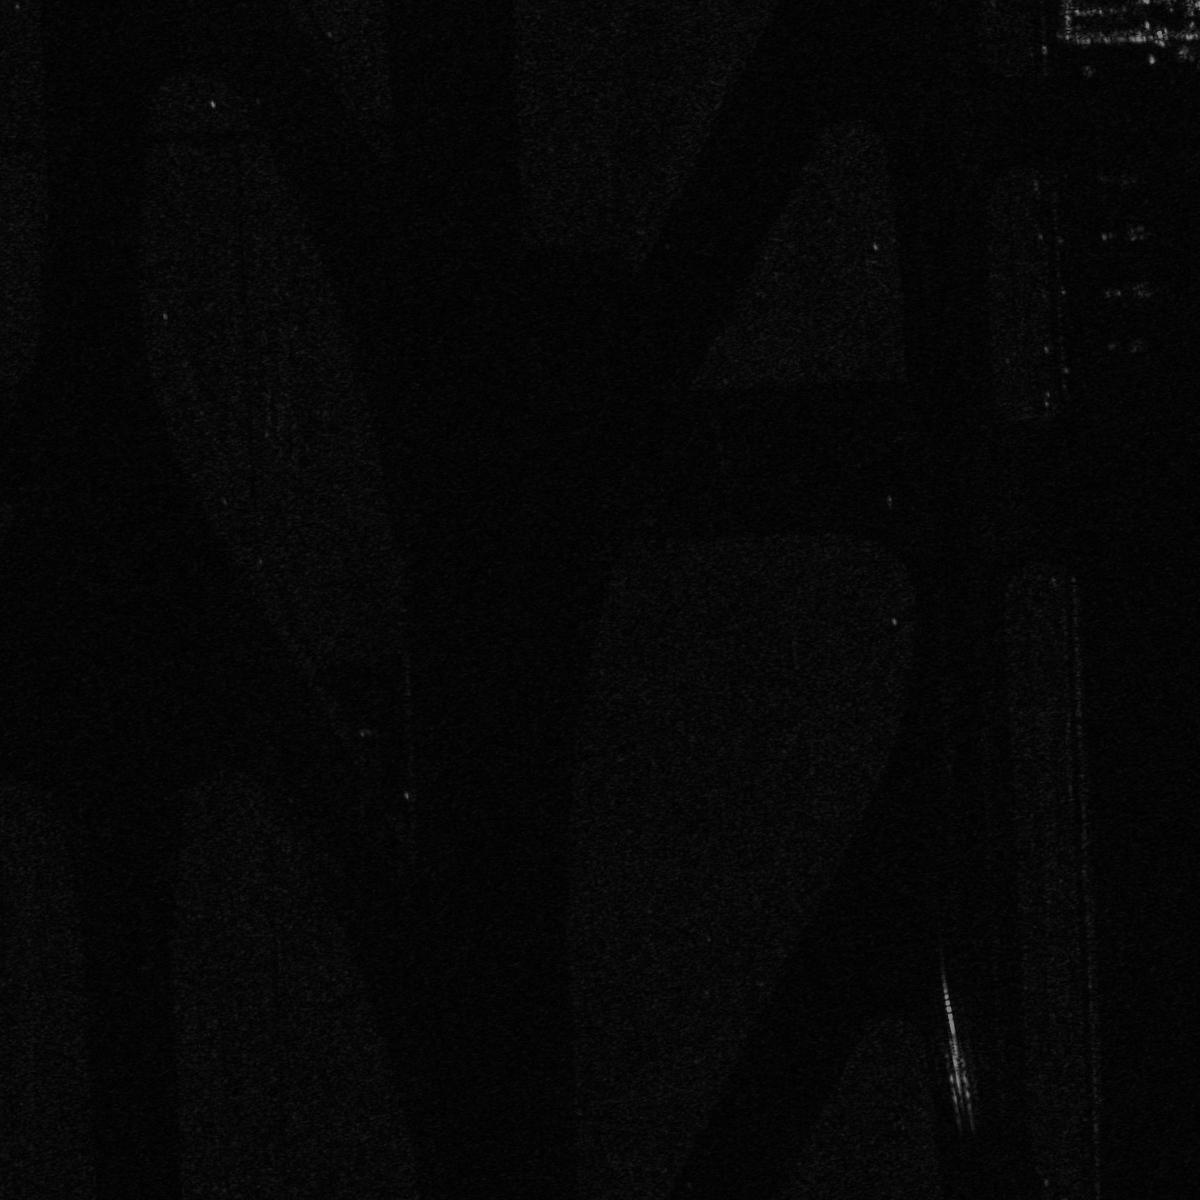ARJ21: (1096, 273, 1162, 313), (1102, 327, 1156, 358)
other: (1095, 214, 1153, 257)
